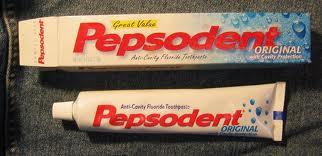toothpaste: (46, 75, 294, 143)
